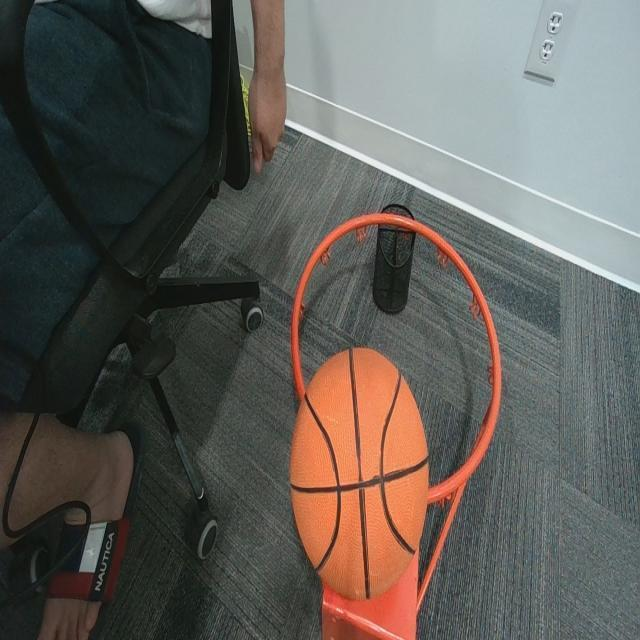hoop: (289, 183, 518, 583)
